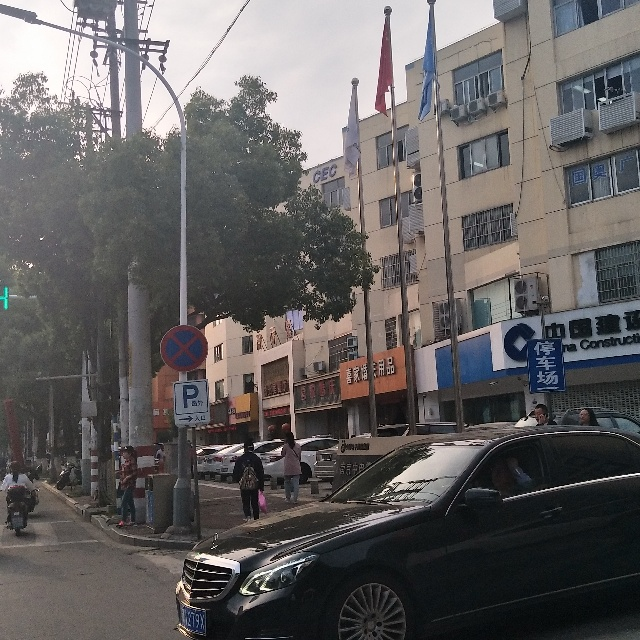stop: (160, 325, 208, 372)
